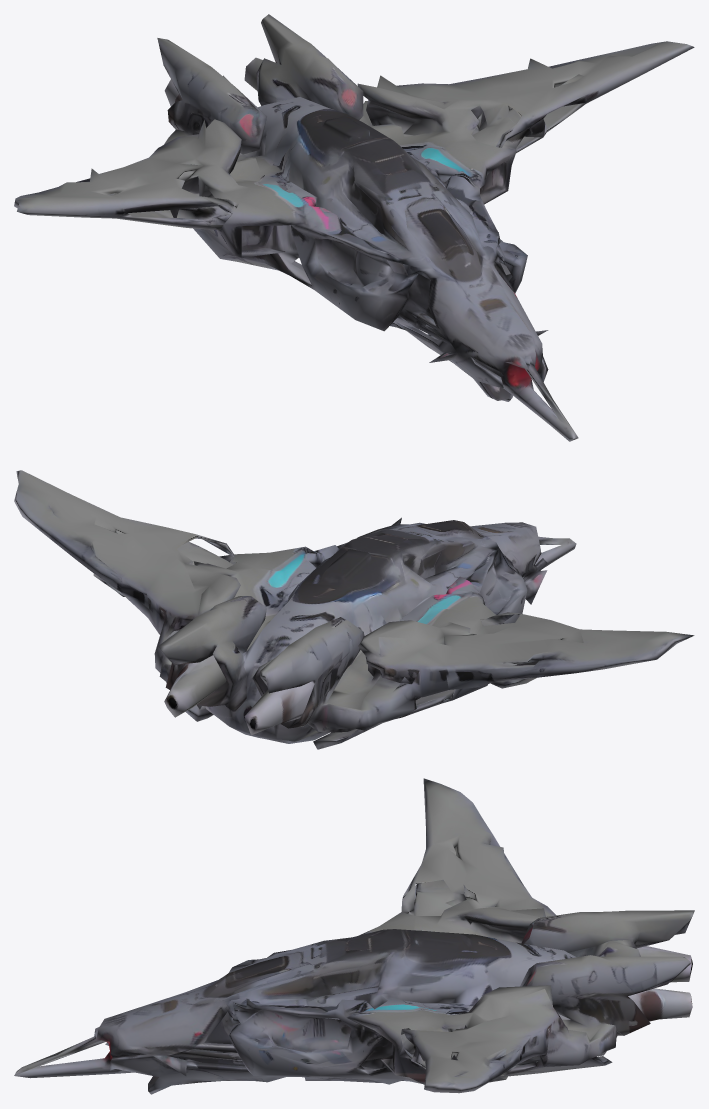
File: Enemy_DiveDrone_A.obj
3 renders of one model, top to bottom at view 1: azimuth 30°, elevation 25°; view 2: azimuth 150°, elevation 25°; view 3: azimuth 270°, elevation 25°, orthographic. The views are drawn at different scales.
Visible parts, largest first — view 1: tripo_node_0d4e82f8-89e7-4999-b613-c4903beb9da3; view 2: tripo_node_0d4e82f8-89e7-4999-b613-c4903beb9da3; view 3: tripo_node_0d4e82f8-89e7-4999-b613-c4903beb9da3.
Part boxes in pixels (bbox=[...]): tripo_node_0d4e82f8-89e7-4999-b613-c4903beb9da3: bbox=[14, 14, 694, 441]; tripo_node_0d4e82f8-89e7-4999-b613-c4903beb9da3: bbox=[14, 470, 694, 749]; tripo_node_0d4e82f8-89e7-4999-b613-c4903beb9da3: bbox=[14, 778, 694, 1094].
Size of the model in its own units: 1.01 by 0.243 by 0.9352.
Materials: 1 (1 with a texture image).
